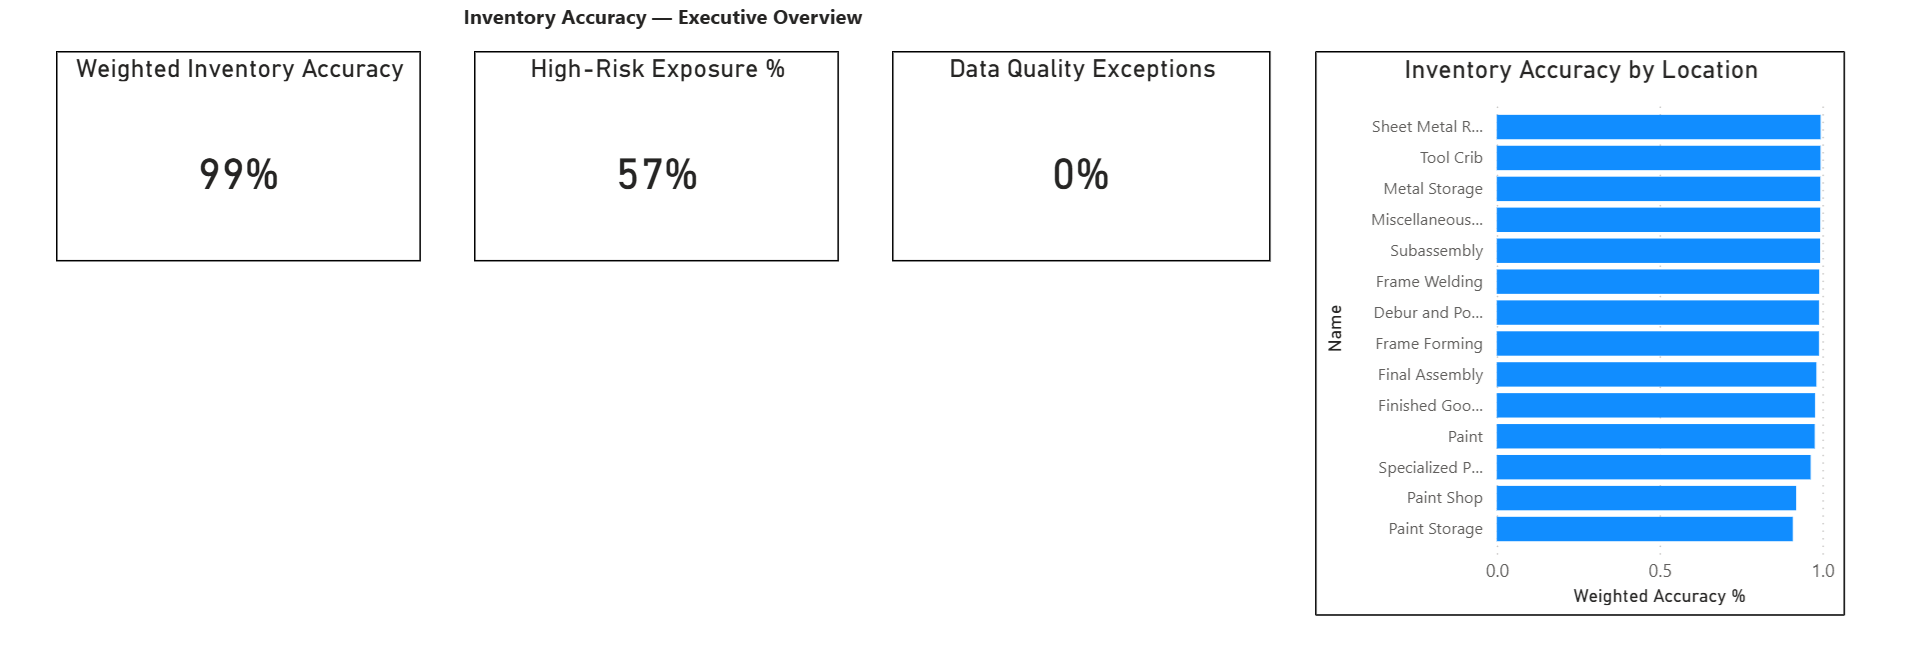

Layout of this report page (visuals, bound fields, positions):
{"tool":"powerbi","page":{"name":"Leadership Overview","canvas":[1280,720],"ordinal":0},"visuals":[{"type":"card","title":"Weighted Inventory Accuracy","fields":{"Values":["_Meaures.Weighted Accuracy %"]},"box":[40.9,41.6,241.1,138.7],"z":0},{"type":"card","title":"High-Risk Exposure %","fields":{"Values":["_Meaures.High-Risk Exposure %"]},"box":[317,41.6,241.1,138.7],"z":1},{"type":"card","title":"Data Quality Exceptions","fields":{"Values":["_Meaures.Exception Rate %"]},"box":[593.1,41.6,249.7,138.7],"z":2},{"type":"clusteredBarChart","title":"Inventory Accuracy by Location","fields":{"Category":["Production Location.Name"],"Y":["_Meaures.Weighted Accuracy %"]},"box":[872.5,41.6,350.1,373.2],"z":3},{"type":"textbox","box":[40.9,4.6,801.8,29.7],"z":4}]}

Visuals, with their boxes on the page's 1280x720 design canvas (x1, y1, x2, y2). These are canvas units, not pixel positions in the 1911x661 screenshot, which may show the page scaled, cropped or inside an application window:
"Weighted Inventory Accuracy" card: 41,42,282,180
"High-Risk Exposure %" card: 317,42,558,180
"Data Quality Exceptions" card: 593,42,843,180
"Inventory Accuracy by Location" clusteredBarChart: 872,42,1223,415
textbox: 41,5,843,34
